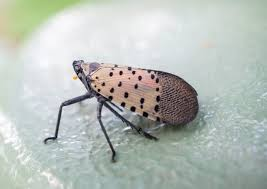insect: (42, 59, 196, 159)
